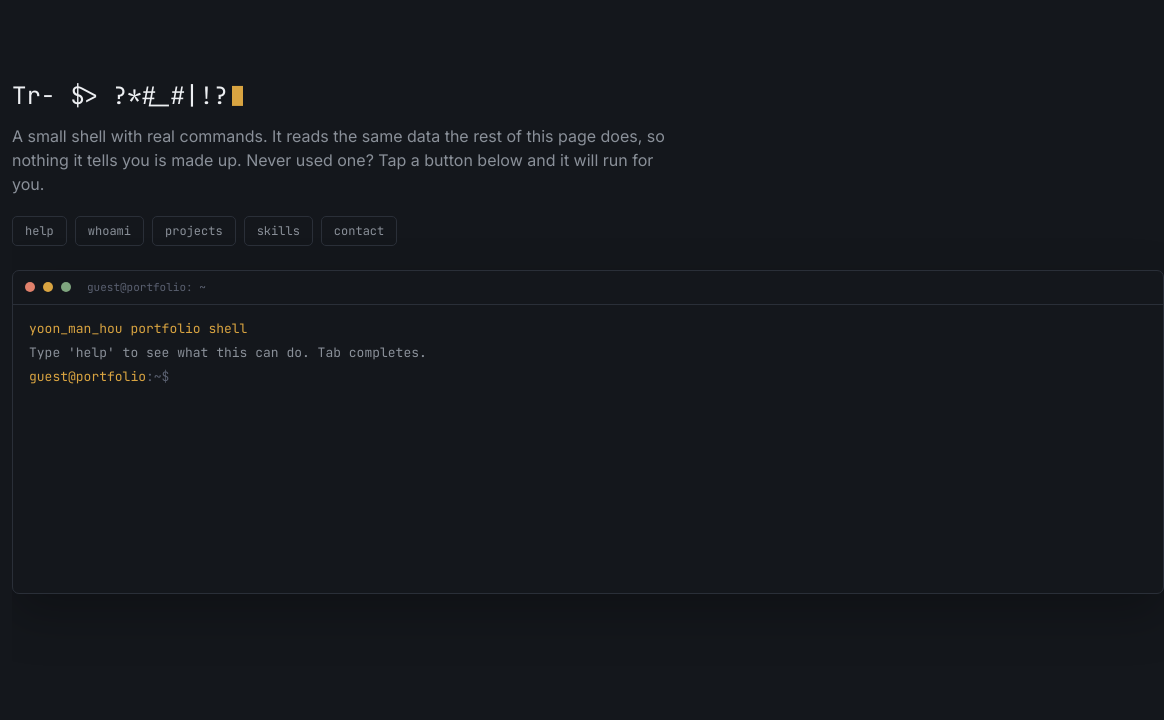
Test: TerminalDemo › clear wipes the transcript, including the banner
Click the field named "terminal input": x=658, y=376 top-left (169, 364), bottom-right (1147, 388)
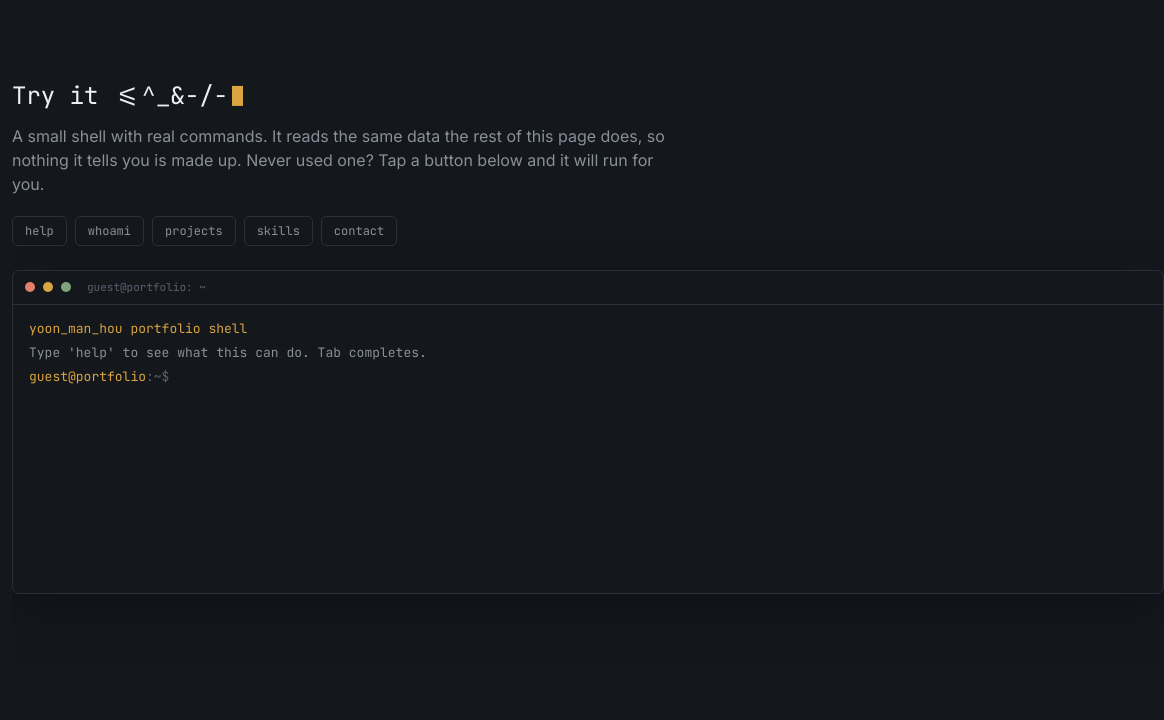
Type keys "clear{Enter}"
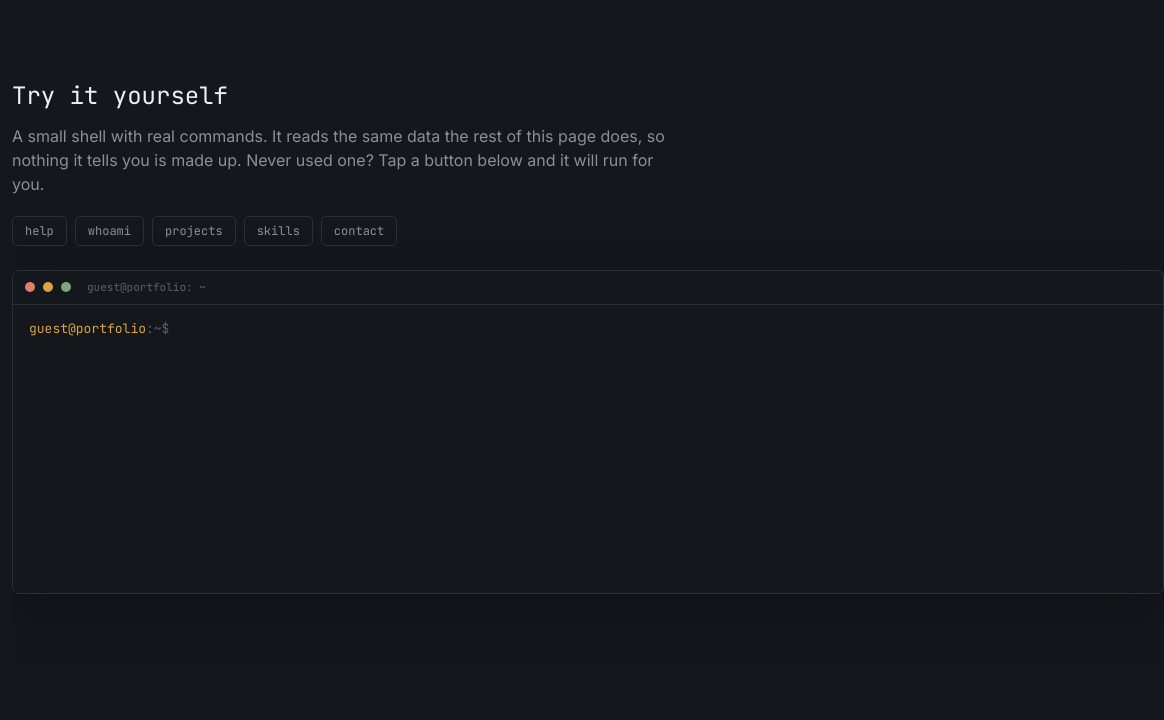
Check: the text "Type 'help'" is gone
